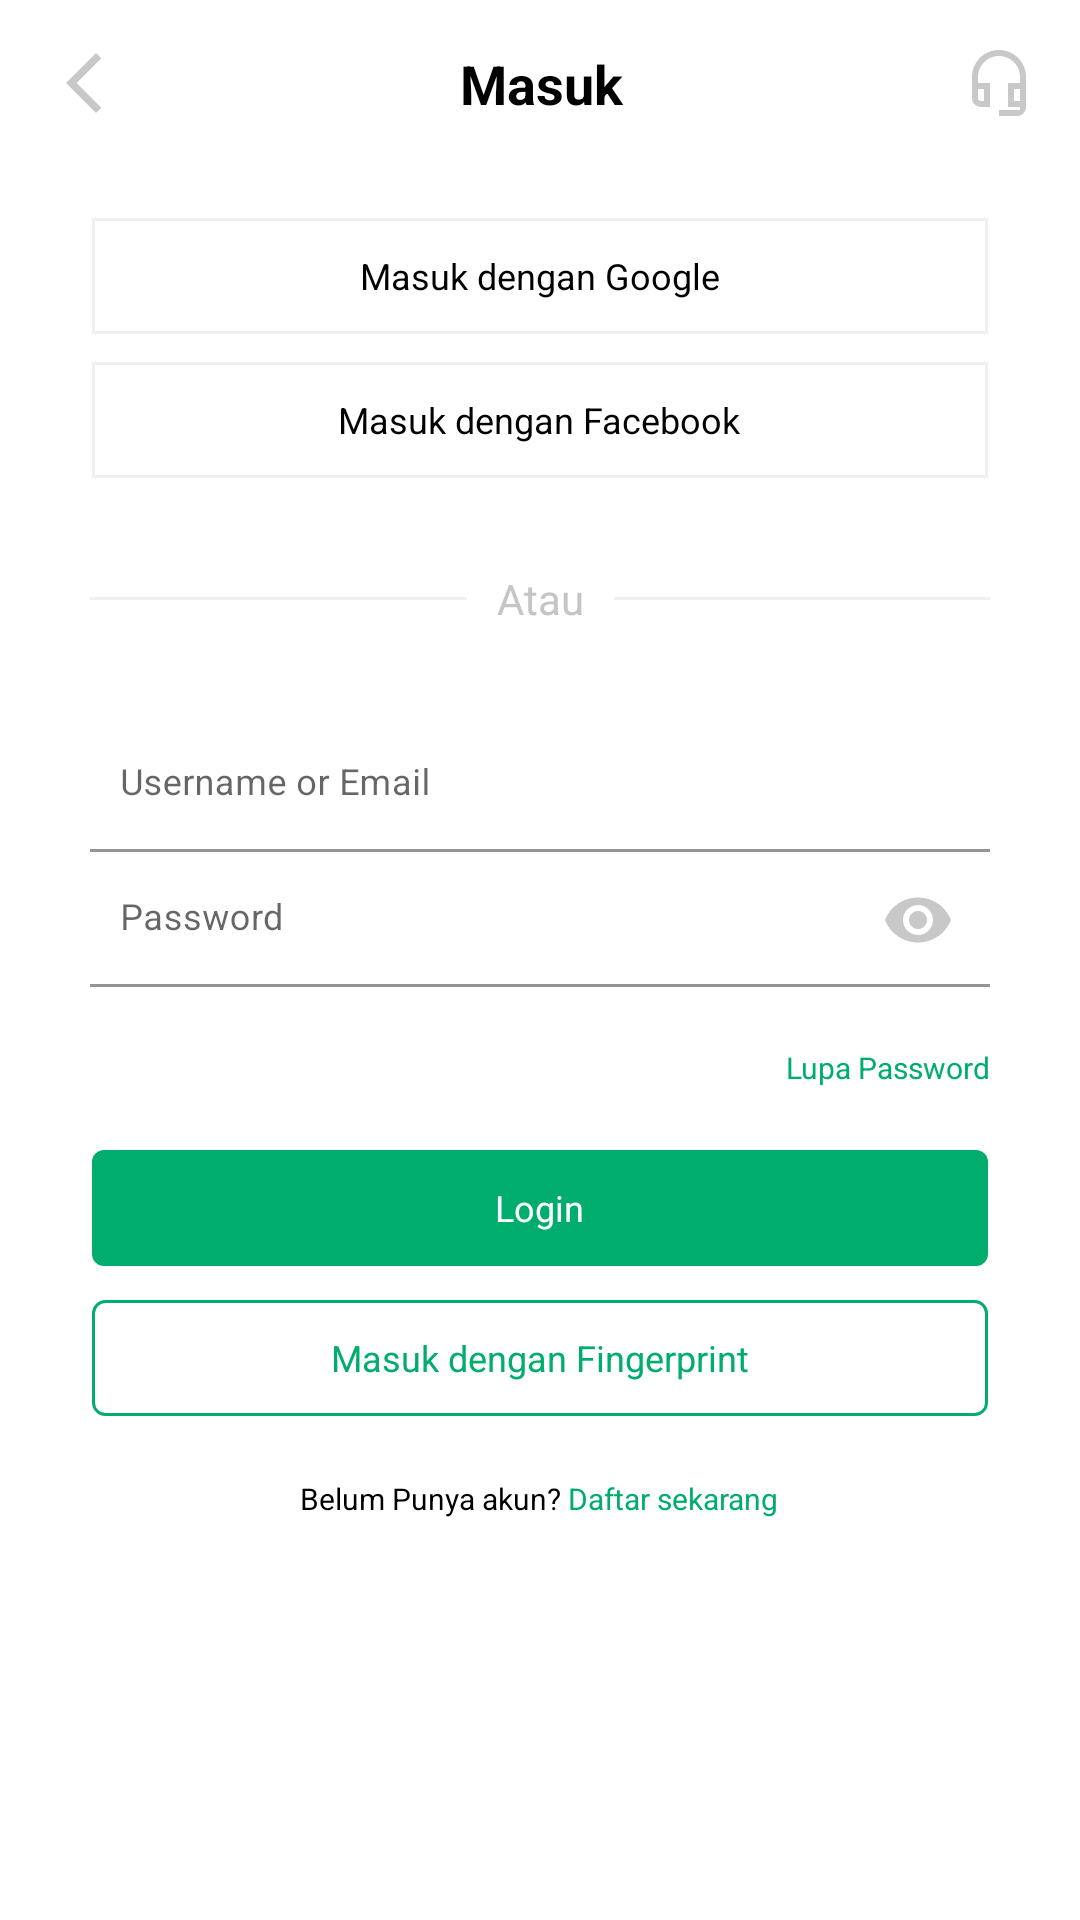

Point at icon controls on the screen. Image size 1080w x 1920h, points as point (x, y).
arrow back: point (83, 83)
headset mic: point (999, 83)
